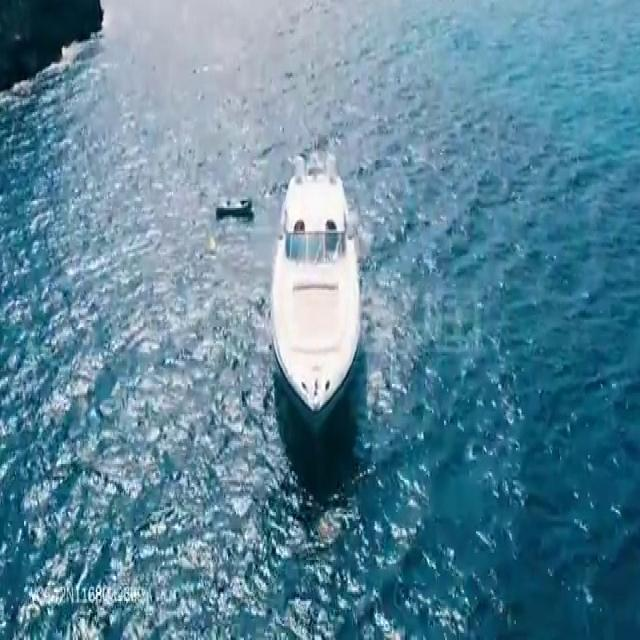houseboat: (264, 148, 366, 414)
